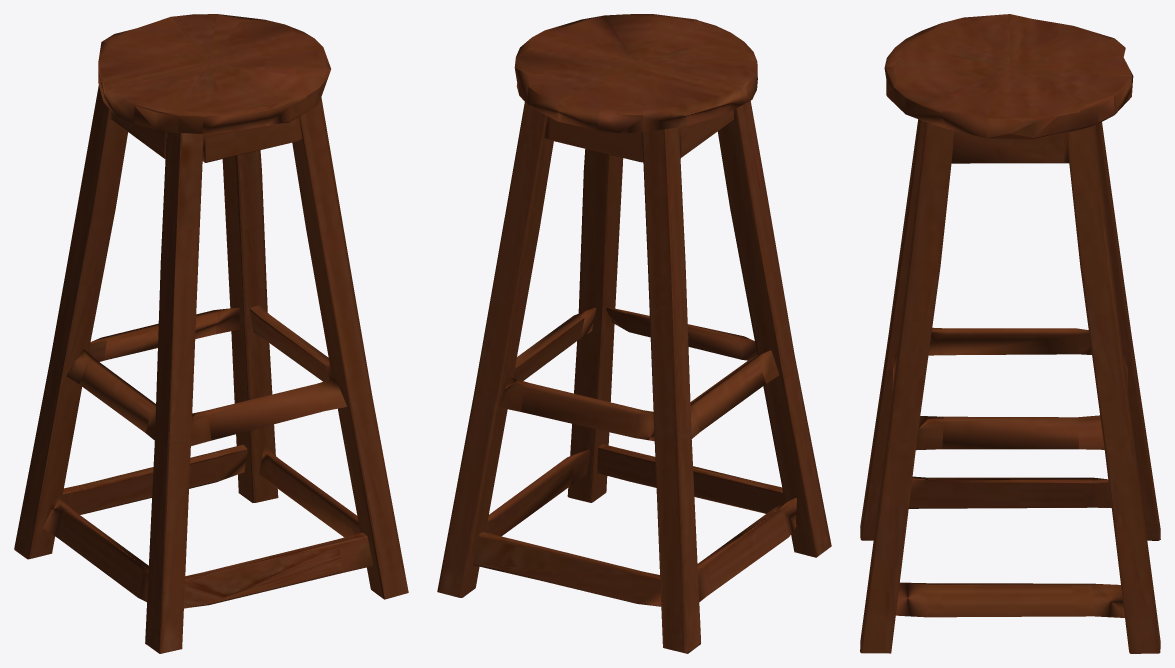
File: bar-stool.lod1.glb
The picture shows the model from 3 angles, left to right: view 1: azimuth 30°, elevation 25°; view 2: azimuth 150°, elevation 25°; view 3: azimuth 270°, elevation 25°; orthographic projection. The views are drawn at different scales.
Bounding box in the file's own units: 0.3868 × 0.75 × 0.3897.
1 material, 1 textured.
